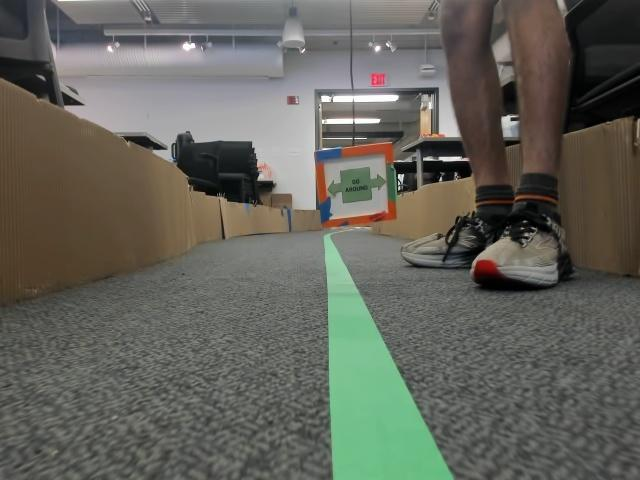Go Around: (326, 172, 383, 205)
